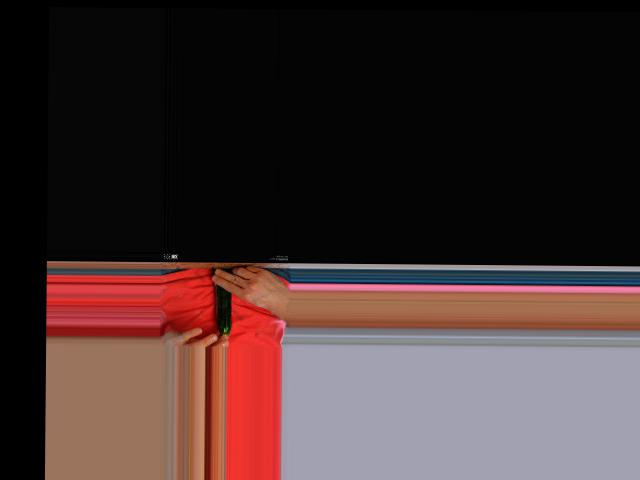cucumber: (215, 283, 232, 334)
